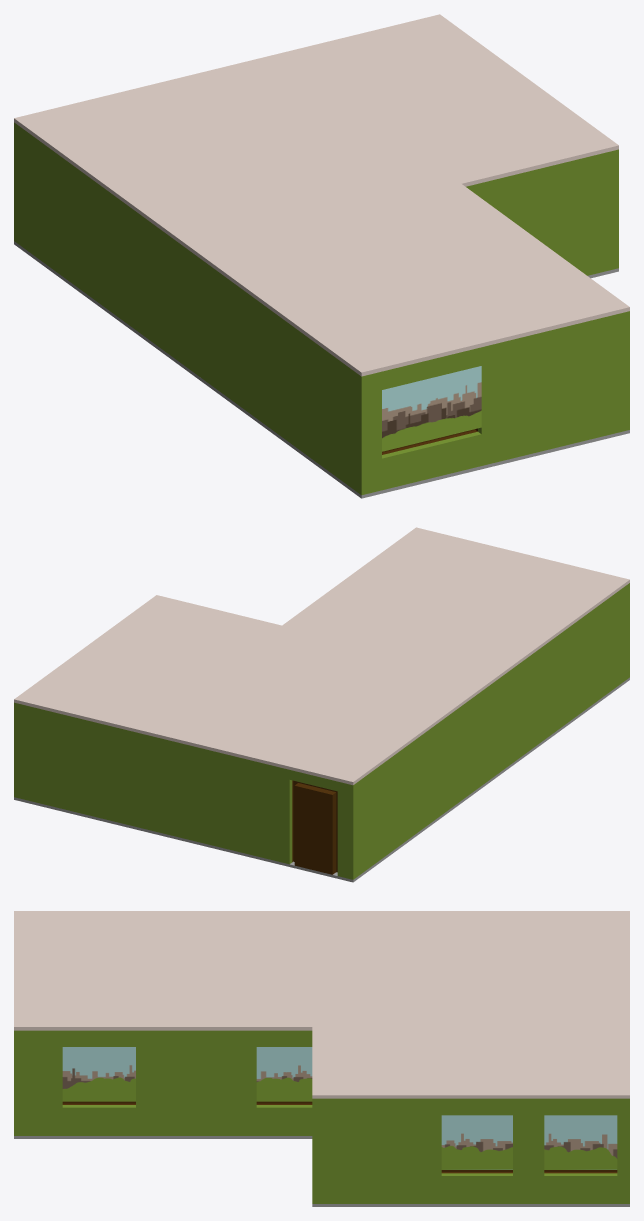
Rendered from apartment_finished_interactibles_removed.fbx.
3 views of the same model, one above another, from view 1: azimuth 30°, elevation 25°; view 2: azimuth 150°, elevation 25°; view 3: azimuth 270°, elevation 25° (orthographic). The views are drawn at different scales.
Parts seen in each view (by area): view 1: _ceiling, _walls, _windows, _floor; view 2: _ceiling, _walls, _wood, _floor; view 3: _ceiling, _walls, _windows, _floor, _wood.
Boxes of the visible parts, x1,y1,x2,y2 form: _ceiling: (14, 14, 629, 376); _walls: (14, 122, 629, 495); _windows: (382, 366, 481, 451); _floor: (14, 241, 629, 498); _ceiling: (14, 527, 629, 785); _walls: (14, 583, 629, 879); _wood: (292, 780, 337, 874); _floor: (14, 677, 629, 882); _ceiling: (14, 911, 629, 1098); _walls: (14, 1030, 629, 1203); _windows: (62, 1047, 617, 1169); _floor: (14, 1136, 629, 1206); _wood: (62, 1101, 617, 1173).
Bounding box in the file's own units: 18.02 × 5.1 × 25.46.
